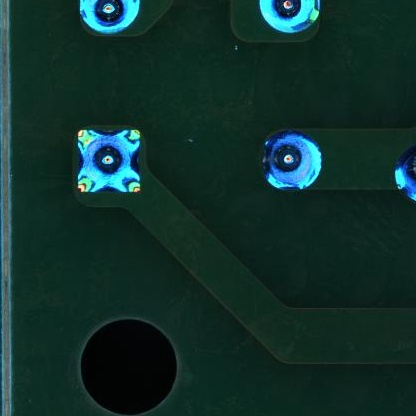spot: (76, 130, 141, 193), (262, 128, 323, 189), (257, 1, 320, 34), (78, 1, 142, 32), (392, 141, 416, 203)
